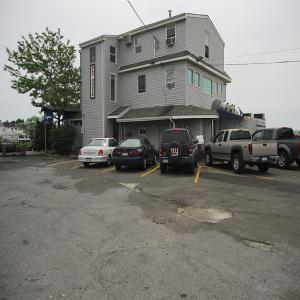Vehicle-registration-plate: (164, 160, 169, 164), (123, 153, 128, 156), (263, 159, 267, 161)
